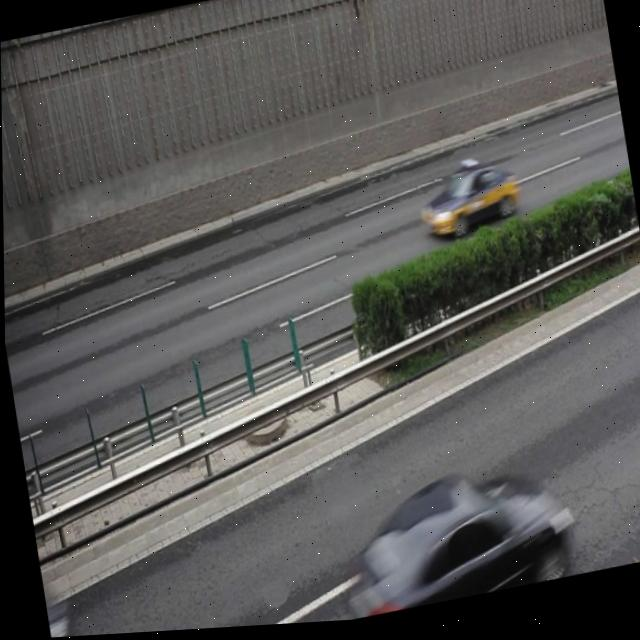car: (336, 460, 571, 624), (412, 161, 521, 247)
